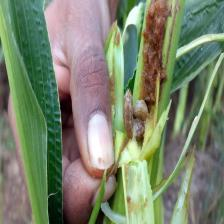Worms: (118, 81, 154, 153)
